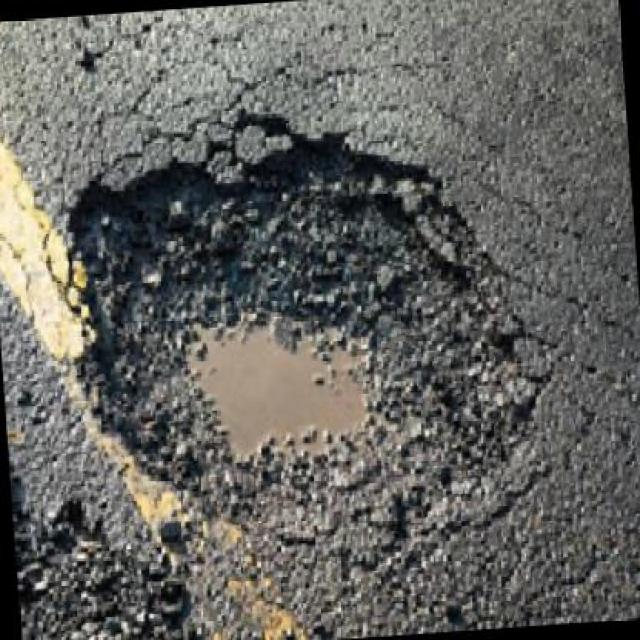pothole1: (53, 82, 556, 588)
